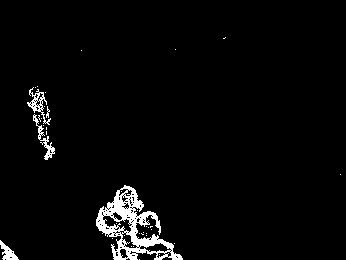person: (97, 184, 142, 260), (26, 86, 56, 159), (131, 216, 173, 260)
